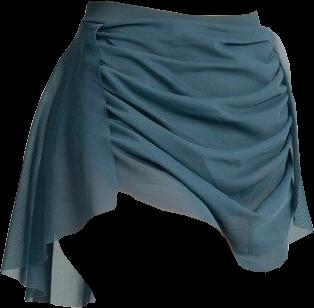Hemline: (0, 22, 118, 272), (117, 190, 313, 274)
Waistline: (89, 0, 257, 17), (81, 18, 262, 29)
